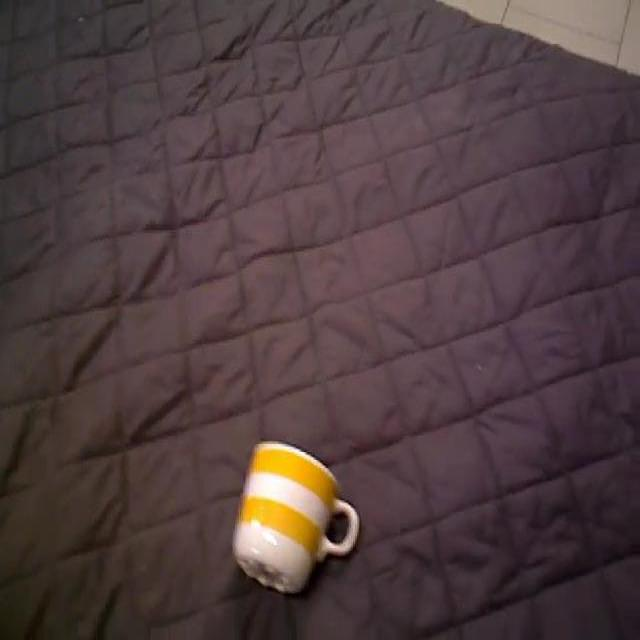cup: (231, 435, 358, 598)
